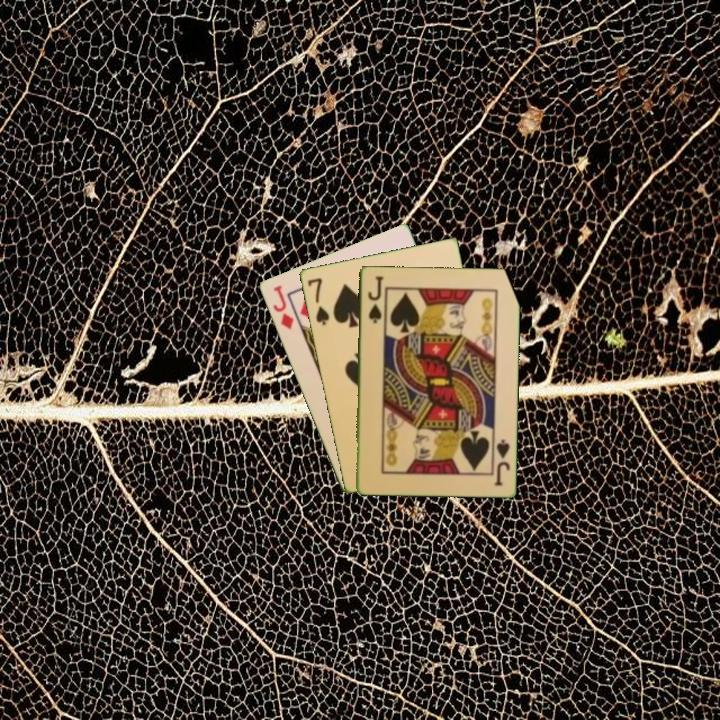7s: (304, 274, 332, 328)
Jd: (269, 282, 296, 332)
Js: (491, 436, 512, 488), (364, 273, 384, 326)
